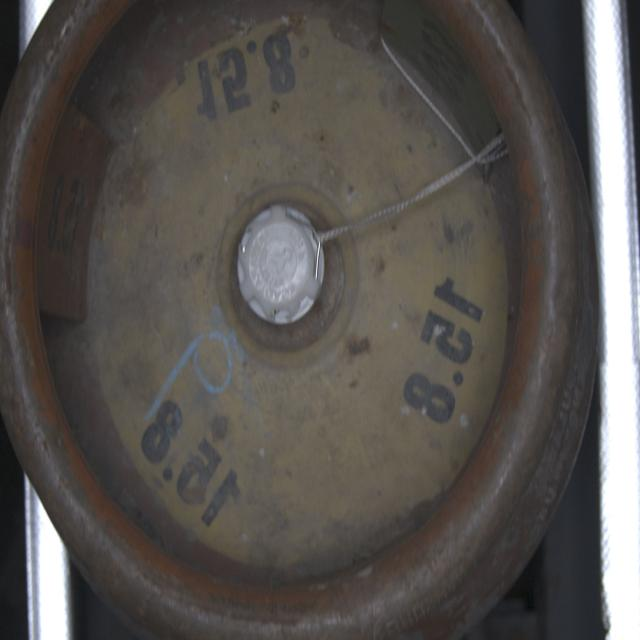Cap: (235, 201, 328, 328)
